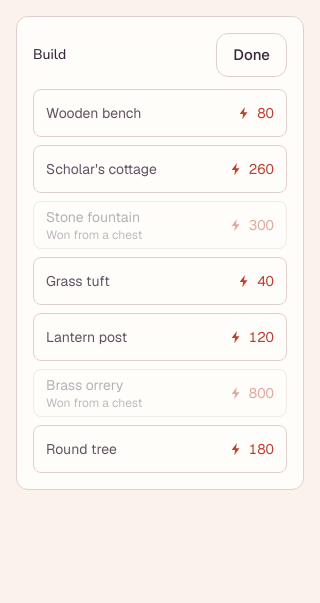
BuildPalette › selecting an item sets it in the store and shows Rotate
The width and height of the screenshot is (320, 603).
Step 1. Click the button "Lantern post 120" → coordinates (160, 337), box left=33, top=313, right=287, bottom=361
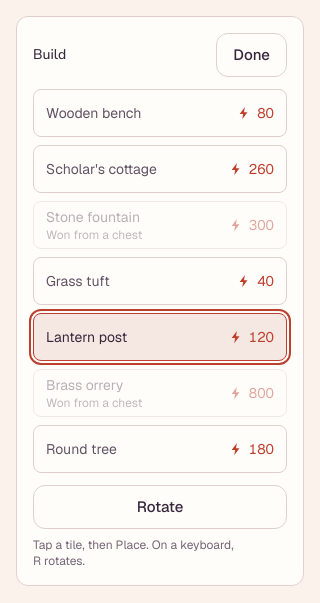
Check: the button "Rotate" is shown, box left=33, top=485, right=287, bottom=529
